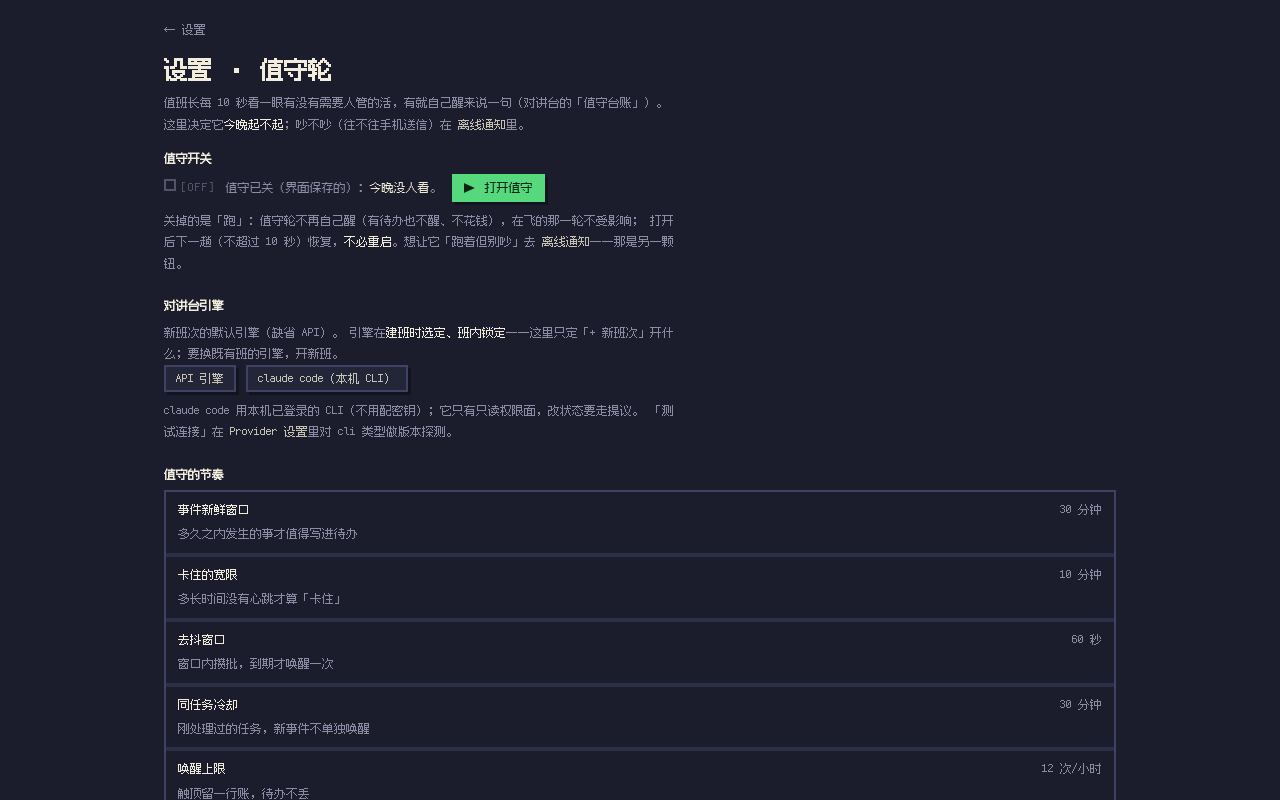
Test: SettingsForeman › 打开：同一颗钮的另一半，交 {enabled:true} 且重读换上新读数
What coordinates should you click on to do the following:
click the button "打开值守"
I would click on:
 (498, 188)
Its box is [452,174,545,202].
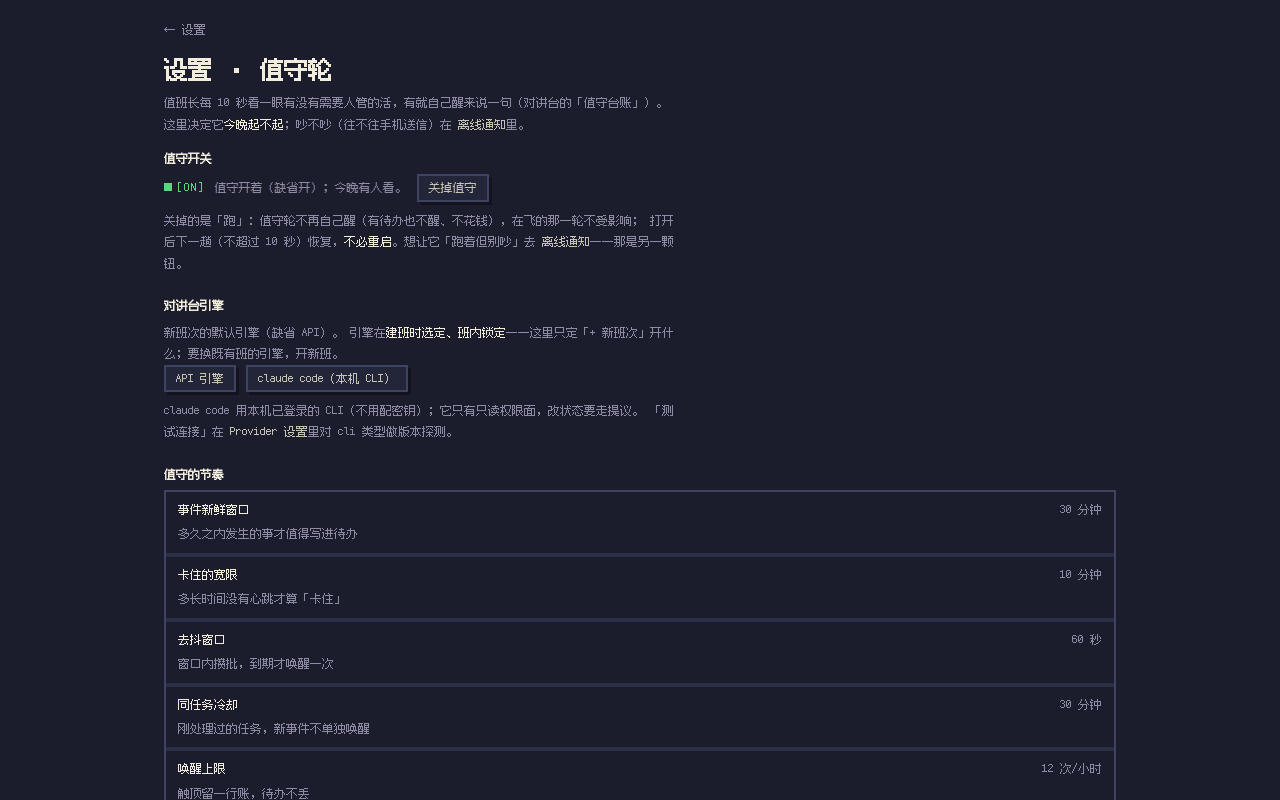
Check: the text "[ON]" is shown, box [164,178,205,198]
Check: the text "值守开着（缺省开）；今晚有人看。" is shown, box [215,181,407,193]
